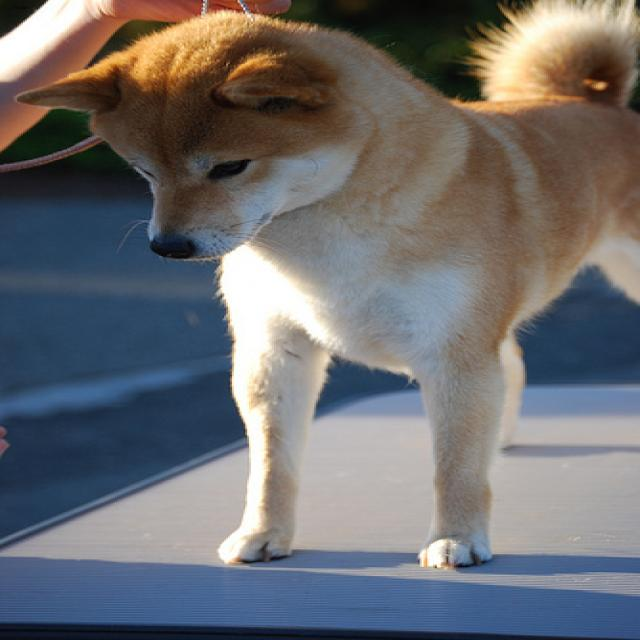dog-shiba_inu: (2, 1, 636, 577)
